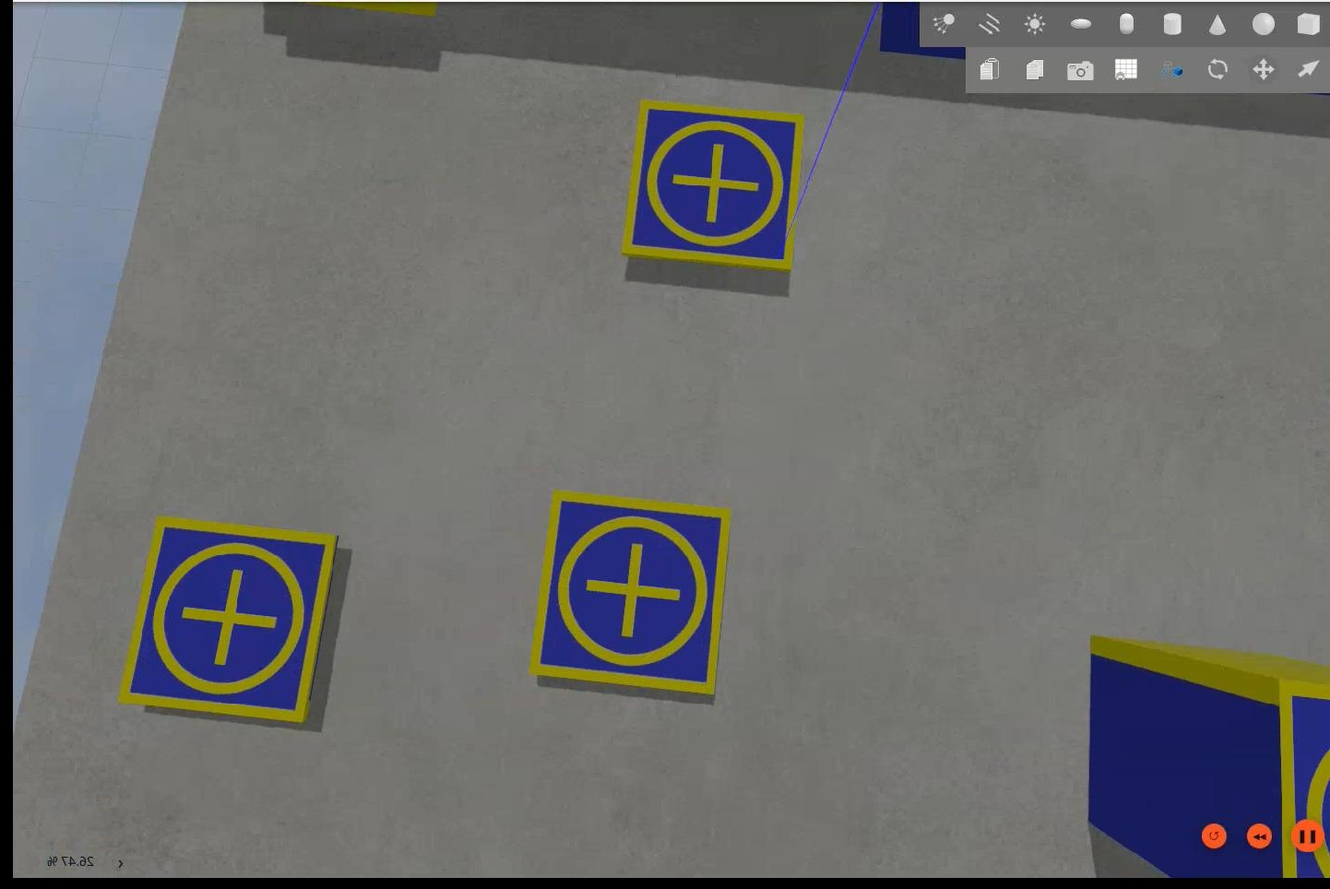small_base: (113, 516, 338, 731), (528, 490, 732, 705), (619, 101, 806, 275), (1264, 672, 1328, 889)
